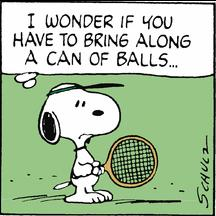snoopy: (38, 81, 158, 203)
